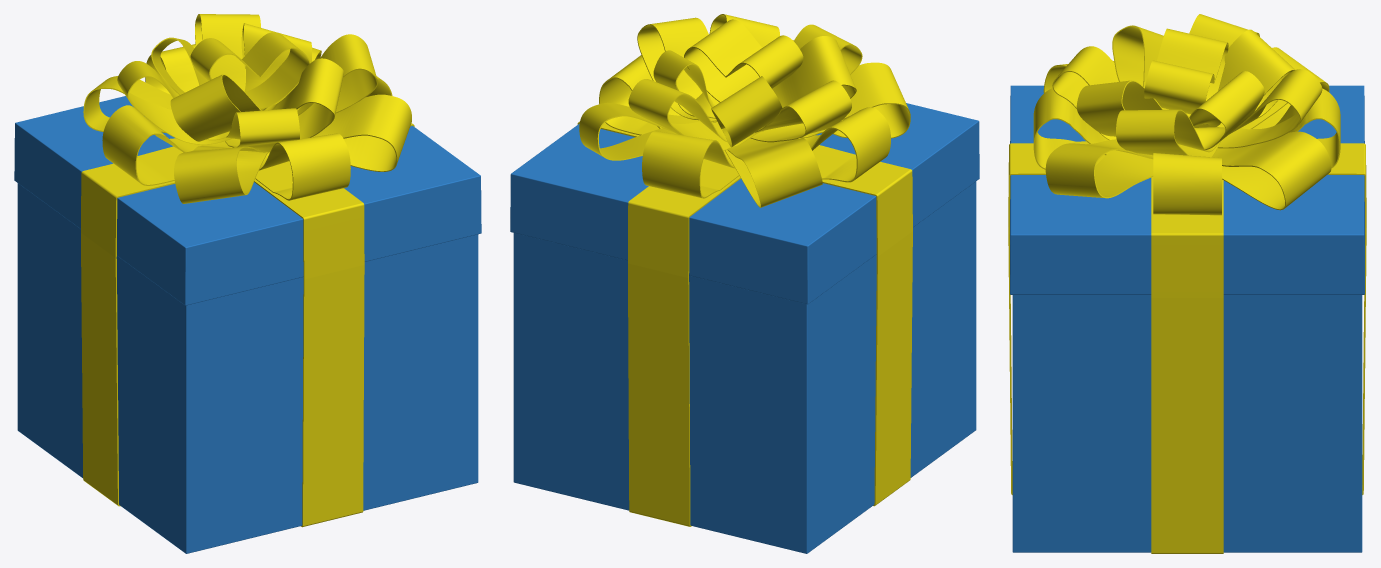
Rendered from gift.glb.
The picture shows the model from 3 angles, left to right: view 1: azimuth 30°, elevation 25°; view 2: azimuth 150°, elevation 25°; view 3: azimuth 270°, elevation 25°; orthographic projection. The views are drawn at different scales.
Visible parts, largest first — view 1: Box, TopPart; view 2: Box, TopPart; view 3: Box, TopPart.
Boxes of the visible parts, x1,y1,x2,y2 form: Box: (17,183,478,553); TopPart: (14,14,481,305); Box: (513,181,976,553); TopPart: (510,14,979,304); Box: (1008,234,1366,553); TopPart: (1008,14,1366,297).
Size of the model in its own units: 0.205 by 0.2745 by 0.205.
